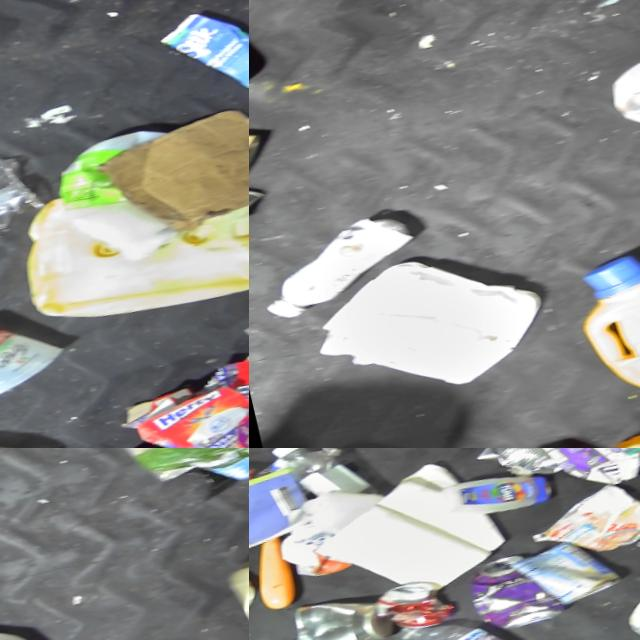can: (519, 466, 640, 566), (508, 523, 629, 613), (461, 540, 570, 636), (280, 581, 403, 640), (371, 570, 459, 636), (466, 448, 567, 487), (87, 426, 213, 448), (249, 114, 276, 189), (249, 168, 272, 226)
milk_jug: (42, 116, 198, 273)
non_white_jug: (5, 141, 249, 338), (564, 220, 640, 405)
plastic_bottle: (266, 448, 380, 515), (392, 595, 524, 640), (228, 238, 249, 338)
